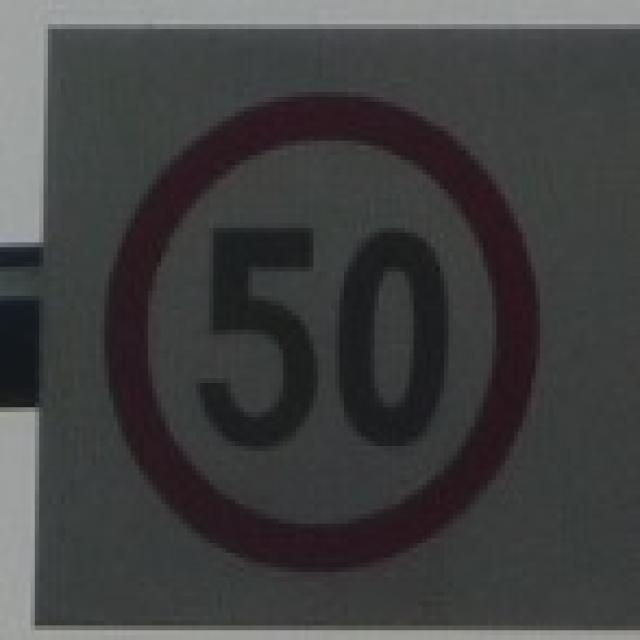Speed Limit -50-: (197, 204, 452, 460)
